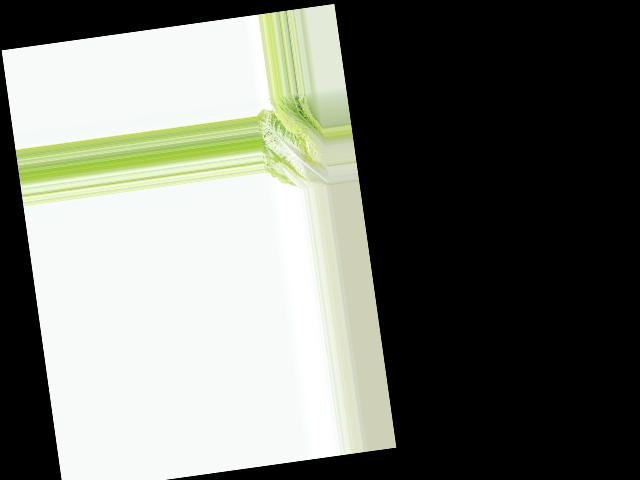lettuce: (255, 90, 330, 193)
